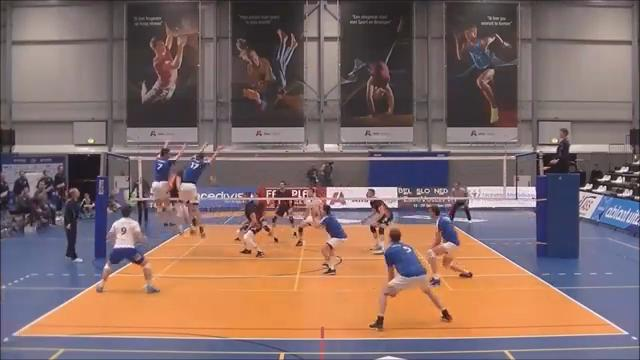muro: (178, 140, 224, 240), (147, 138, 179, 234)
